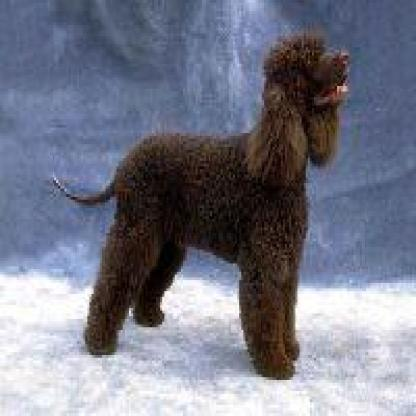Irish_water_spaniel: (46, 36, 347, 377)
